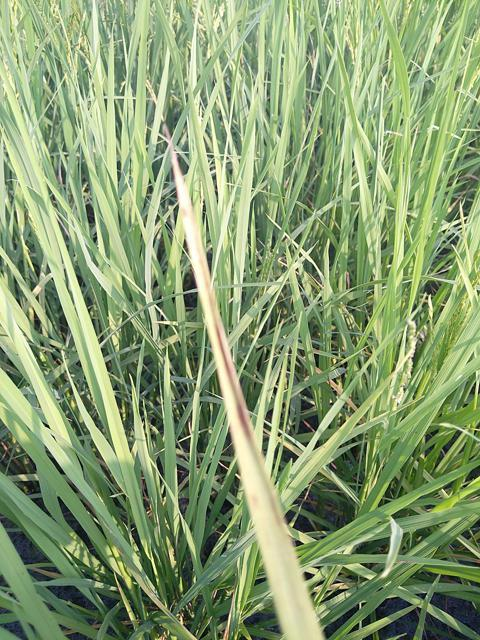Leaf Blight: (163, 127, 326, 639)
